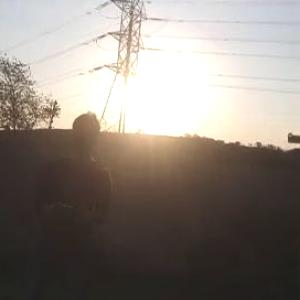follow: (30, 107, 117, 299)
